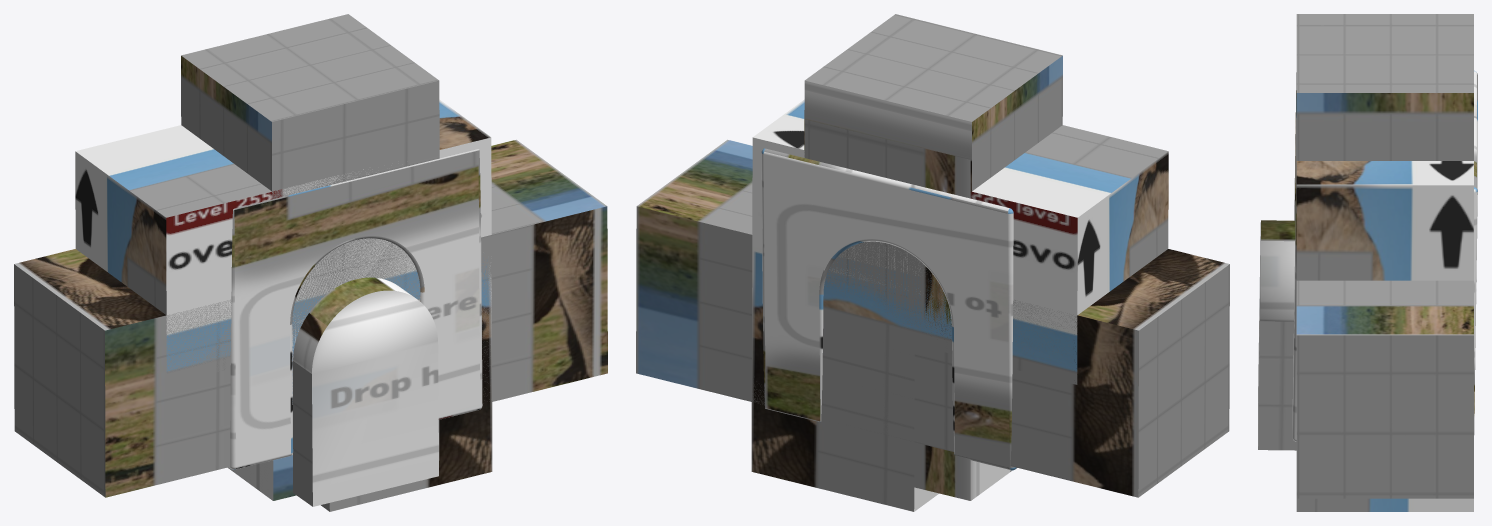
File: puzzle4.fbx
3 renders of one model, left to right at view 1: azimuth 30°, elevation 25°; view 2: azimuth 150°, elevation 25°; view 3: azimuth 270°, elevation 25°, orthographic. The views are drawn at different scales.
Visible parts, largest first — view 1: Cube.001, Cube, Solid1:14, Solid1:27, Cube.002; view 2: Cube.001, Cube, Solid1:14, Cube.002, Cube.003; view 3: Cube.001, Cube, Solid1:27, Solid1:14.
Boxes of the visible parts, x1=… form: Cube.001: x1=14, y1=14, x2=607, y2=497; Cube: x1=75, y1=99, x2=492, y2=511; Solid1:14: x1=229, y1=149, x2=482, y2=469; Solid1:27: x1=293, y1=277, x2=438, y2=506; Cube.002: x1=228, y1=316, x2=439, y2=500; Cube.001: x1=636, y1=14, x2=1229, y2=497; Cube: x1=751, y1=99, x2=1168, y2=511; Solid1:14: x1=761, y1=148, x2=1016, y2=470; Cube.002: x1=804, y1=119, x2=1012, y2=500; Cube.003: x1=824, y1=242, x2=1007, y2=468; Cube.001: x1=1296, y1=14, x2=1473, y2=498; Cube: x1=1296, y1=161, x2=1473, y2=511; Solid1:27: x1=1258, y1=220, x2=1296, y2=450; Solid1:14: x1=1292, y1=70, x2=1477, y2=441.
Bounding box in the file's own units: 639 × 491 × 248.
